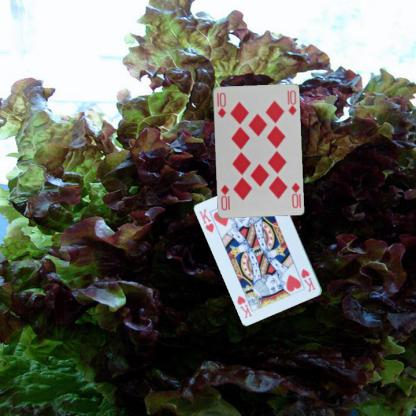10d: (214, 90, 227, 119), (289, 180, 301, 209)
Kh: (197, 206, 216, 234), (298, 266, 316, 293)
